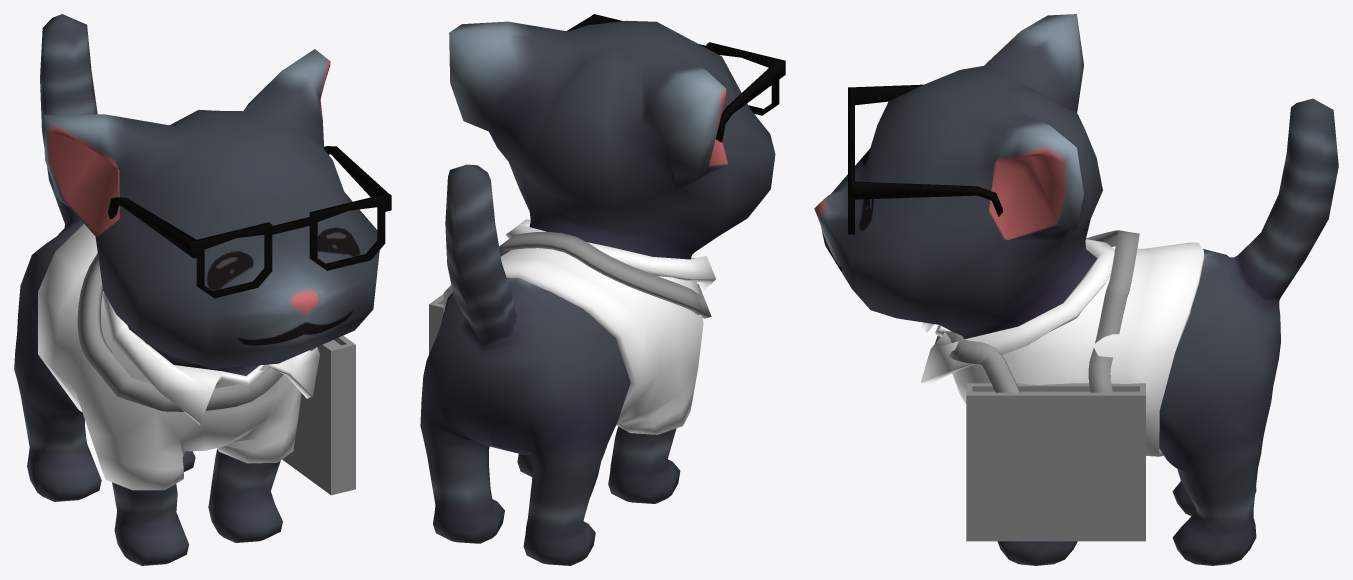
The model's file is Professor Cat04.fbx.
3 views of the same model, side by side, from view 1: azimuth 30°, elevation 25°; view 2: azimuth 150°, elevation 25°; view 3: azimuth 270°, elevation 25° (orthographic). The views are drawn at different scales.
Parts seen in each view (by area): view 1: Cat_Base003, Professor_Cat_Shirt, Professor_Cat_Bag, Professor_Cat_Glasses; view 2: Cat_Base003, Professor_Cat_Shirt, Professor_Cat_Bag, Professor_Cat_Glasses; view 3: Cat_Base003, Professor_Cat_Bag, Professor_Cat_Shirt, Professor_Cat_Glasses.
Part boxes in pixels (x1,y1,x2,y2): Cat_Base003: [14, 14, 379, 565]; Professor_Cat_Shirt: [38, 224, 319, 490]; Professor_Cat_Bag: [77, 253, 355, 495]; Professor_Cat_Glasses: [108, 146, 391, 298]; Cat_Base003: [420, 20, 775, 565]; Professor_Cat_Shirt: [443, 219, 715, 434]; Professor_Cat_Bag: [429, 232, 711, 353]; Professor_Cat_Glasses: [566, 14, 785, 142]; Cat_Base003: [814, 14, 1338, 565]; Professor_Cat_Bag: [935, 230, 1145, 541]; Professor_Cat_Shirt: [921, 239, 1204, 456]; Professor_Cat_Glasses: [848, 84, 1002, 234].
Bounding box in the file's own units: 1.75 × 2.83 × 2.68.
4 materials, 1 textured.
